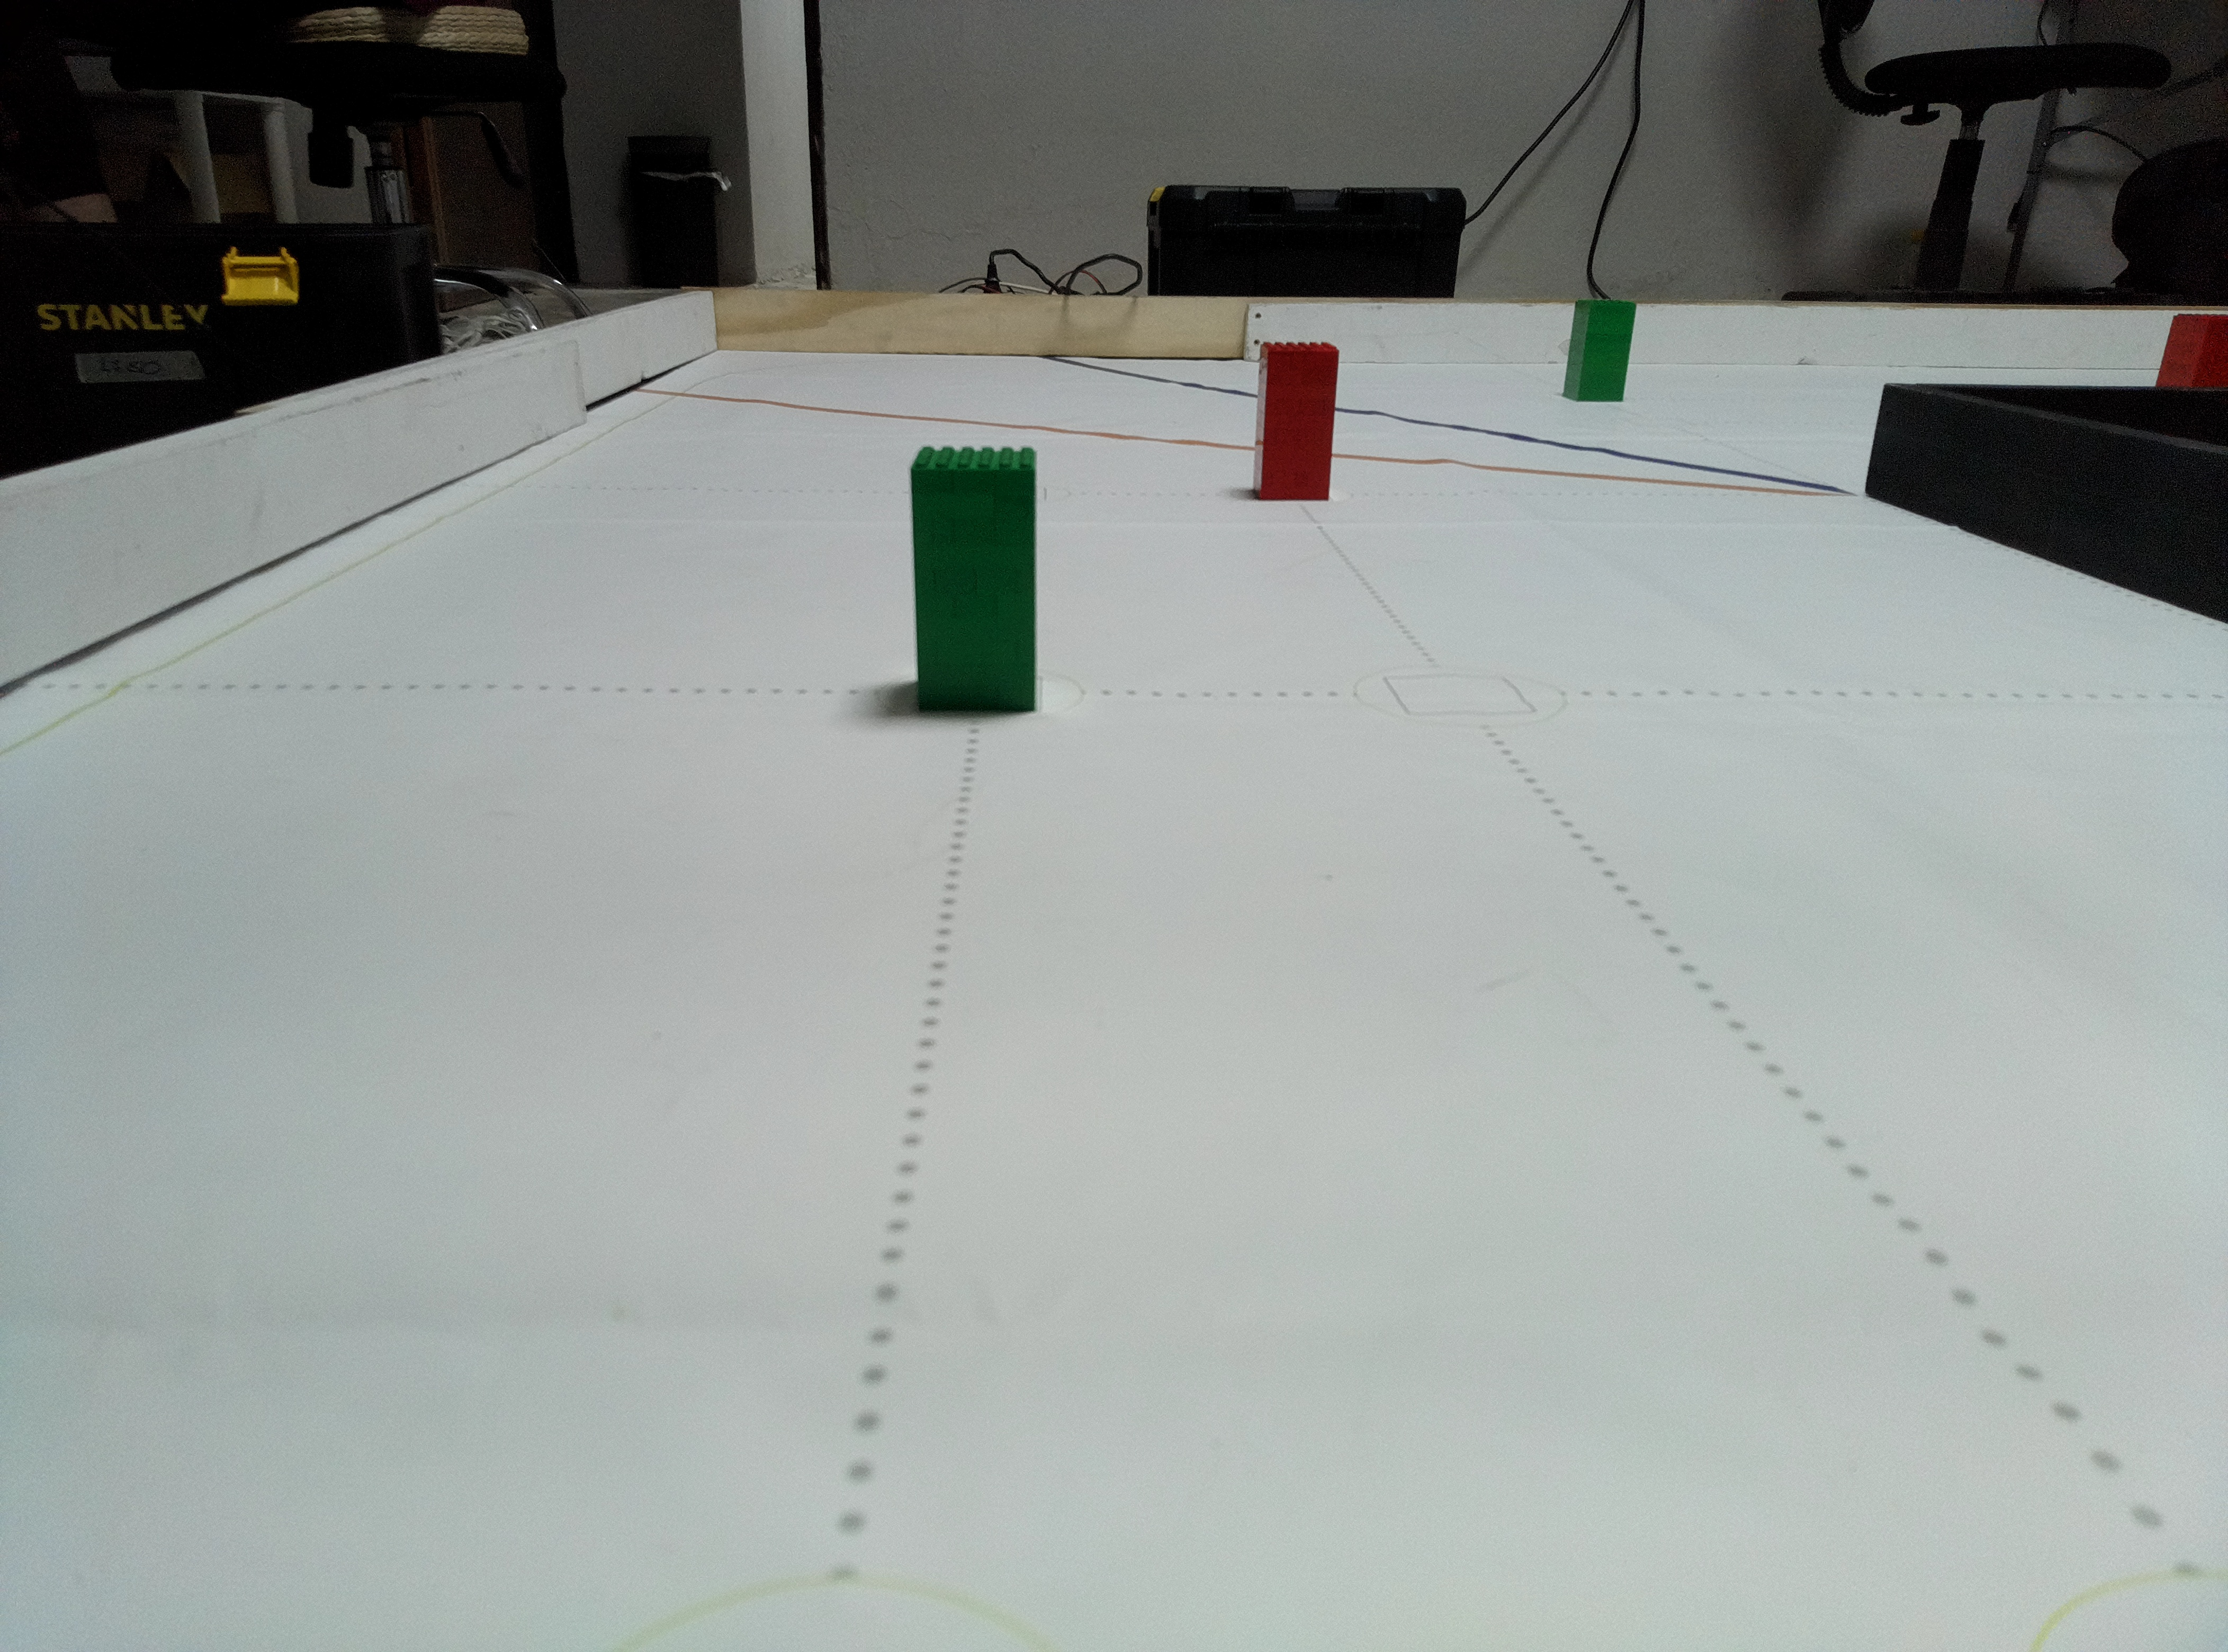greenbox: (904, 439, 1045, 718), (1560, 297, 1638, 404)
redbox: (1251, 338, 1341, 501), (2150, 314, 2228, 392)
